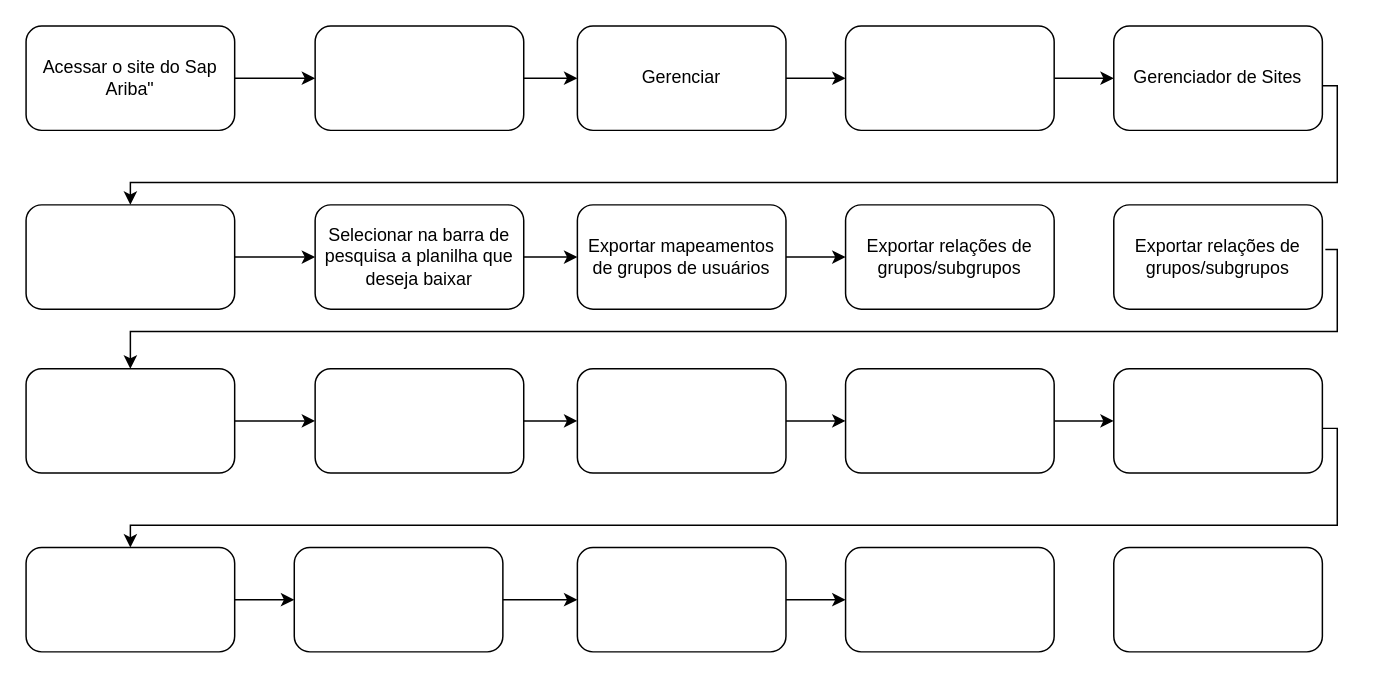
Image size: 1375x678. Some labels were removed from this diagram. The box of each missing label's shape, as (x1, y1, x2, y2) in pixels:
Administração Principal: (844, 25, 1054, 130)
https://brf-t.sourcing.ariba.com/: (314, 25, 524, 130)
Importação/Exportação de Dados: (25, 203, 235, 309)
